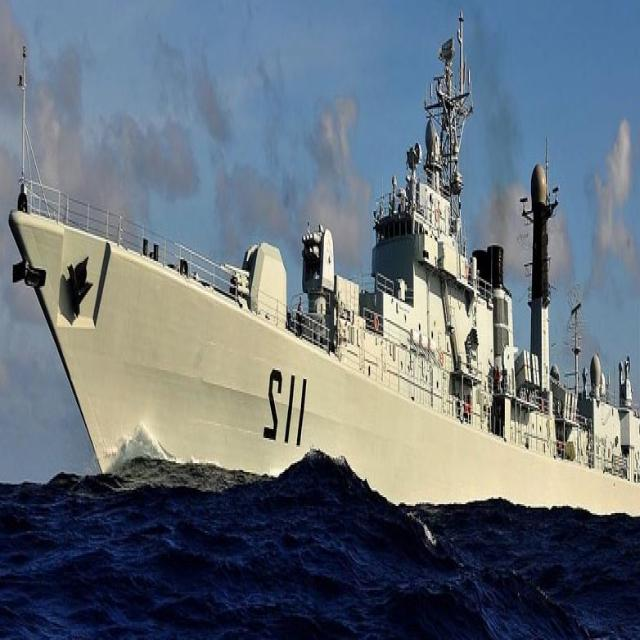navalvessels: (8, 4, 640, 572)
